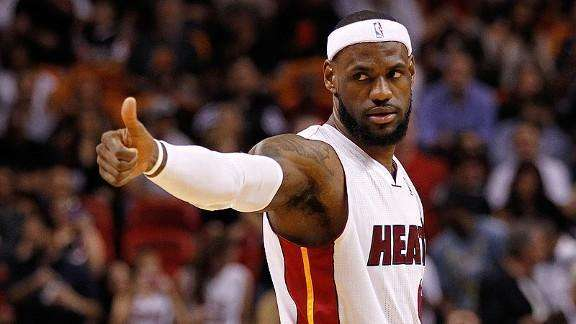no-phone: (92, 96, 155, 189)
